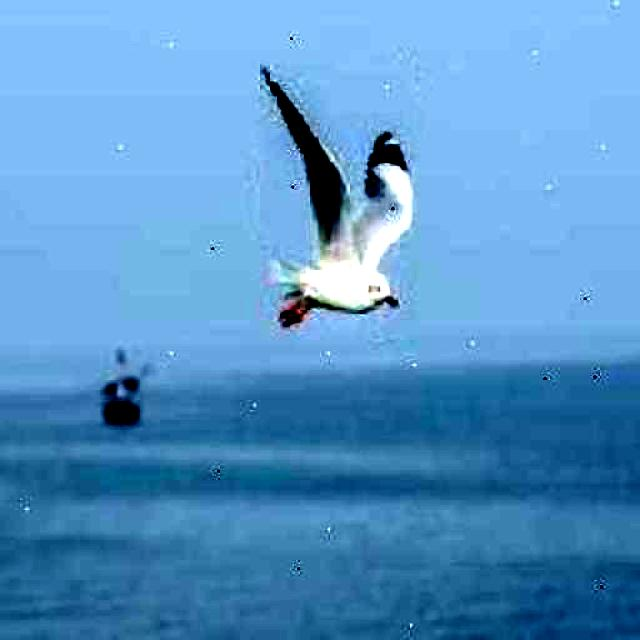airplane: (260, 64, 416, 332)
